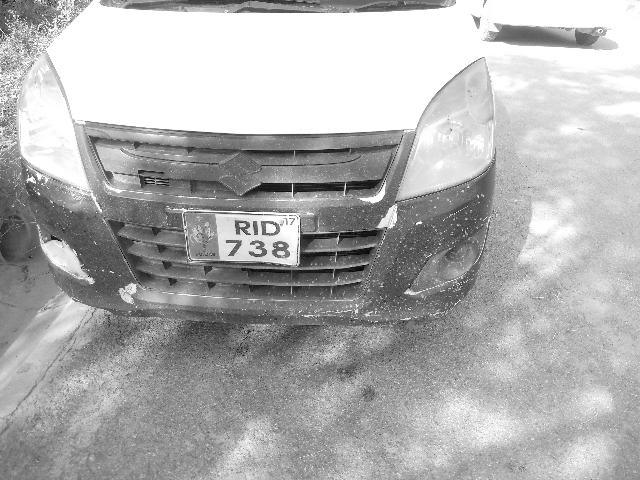Number: (221, 219, 293, 260)
